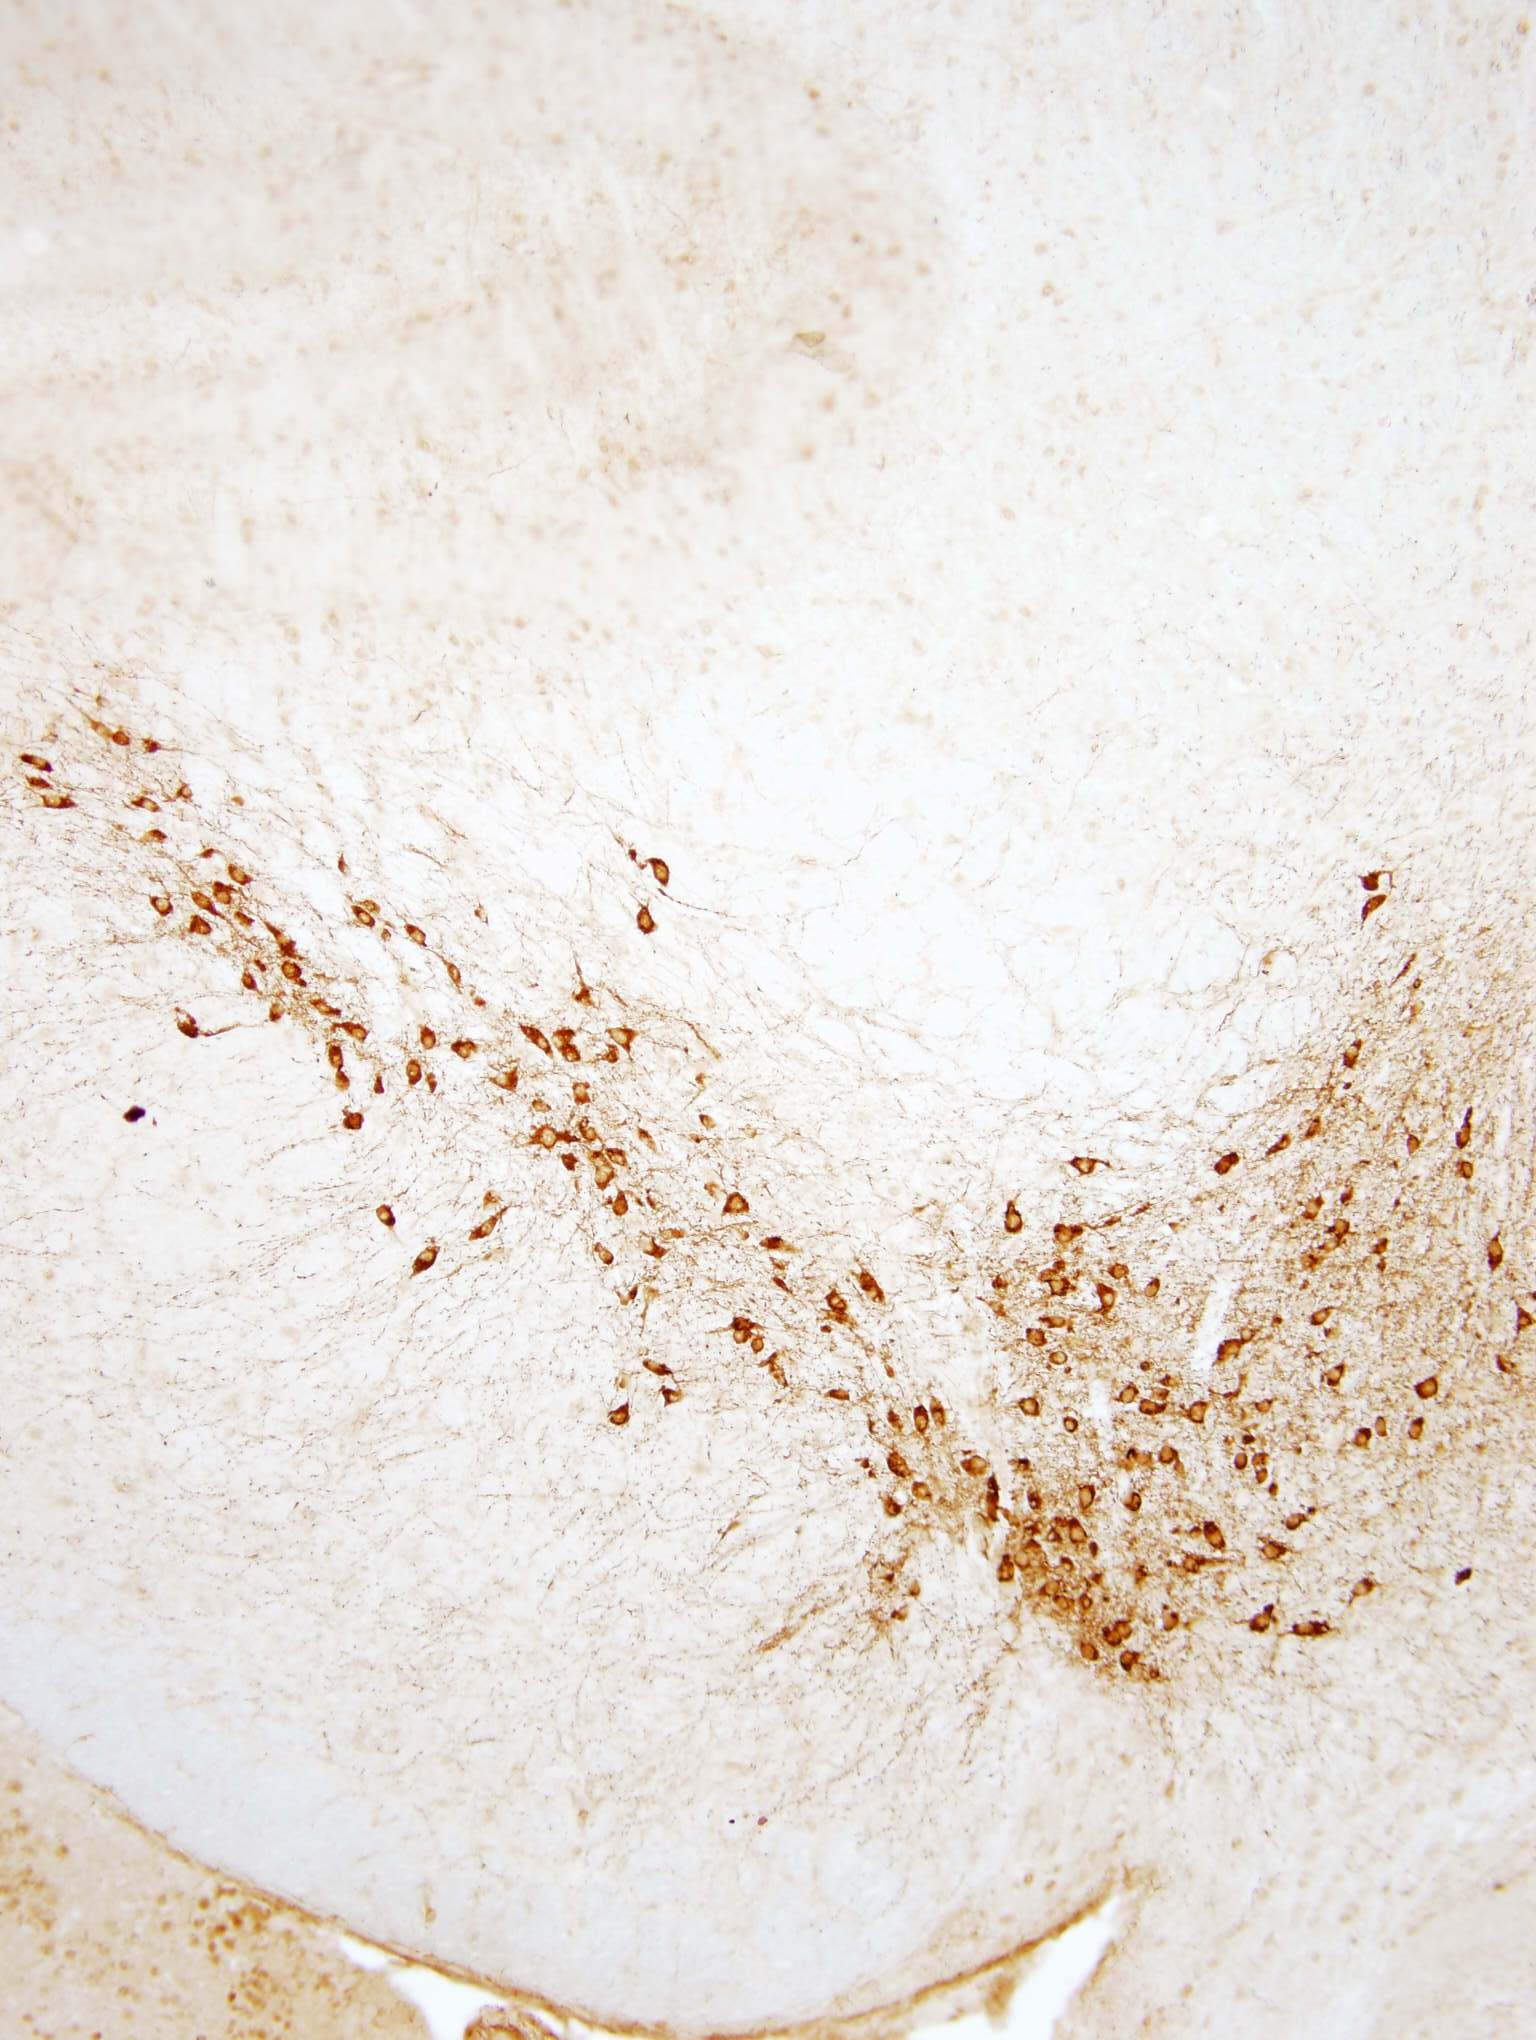neuron: (1066, 1147, 1104, 1184), (1091, 1284, 1128, 1321), (1133, 1397, 1170, 1434), (1137, 1663, 1175, 1700), (1276, 1501, 1313, 1538), (269, 919, 307, 956), (408, 1239, 445, 1276), (883, 1605, 920, 1642), (900, 1405, 937, 1442), (1013, 1390, 1050, 1426), (1016, 1316, 1054, 1351), (1042, 1338, 1079, 1374), (1070, 1509, 1105, 1547), (1105, 1374, 1142, 1409), (1136, 1272, 1171, 1309), (1208, 1148, 1244, 1185), (1212, 1334, 1249, 1369), (1242, 1605, 1279, 1640), (1246, 1385, 1281, 1422), (1255, 1530, 1291, 1567), (1304, 1111, 1341, 1147), (1320, 1356, 1355, 1393), (132, 795, 169, 831), (1346, 1577, 1383, 1613), (1355, 892, 1392, 927), (1480, 1234, 1515, 1271), (169, 772, 207, 808), (189, 876, 224, 913), (215, 872, 250, 910), (227, 906, 265, 942), (231, 855, 266, 892), (23, 740, 60, 776), (261, 1000, 298, 1035), (311, 990, 349, 1026), (323, 1034, 358, 1071), (328, 1068, 365, 1103), (337, 1108, 374, 1143), (344, 903, 381, 939), (408, 1022, 445, 1058), (419, 1072, 455, 1110), (445, 1034, 482, 1069), (474, 1177, 510, 1214), (487, 1063, 524, 1098), (523, 1084, 558, 1121), (524, 1121, 561, 1156), (550, 1018, 586, 1055), (557, 1040, 594, 1076), (566, 1077, 603, 1113), (603, 1400, 641, 1435), (607, 1274, 644, 1309), (628, 905, 665, 940), (649, 848, 684, 885), (653, 1385, 691, 1421), (720, 1189, 755, 1226), (763, 1226, 799, 1263), (855, 1272, 891, 1309), (879, 1447, 916, 1482), (910, 1476, 945, 1513), (976, 1293, 1012, 1330), (984, 1268, 1021, 1303), (98, 718, 134, 755), (995, 1200, 1033, 1235), (1050, 1406, 1086, 1442), (1052, 1211, 1087, 1247), (1070, 1479, 1105, 1514), (1102, 1255, 1137, 1290), (1149, 1374, 1184, 1409), (1184, 1398, 1220, 1434), (1205, 1514, 1241, 1550), (1231, 1318, 1267, 1353), (1263, 1129, 1299, 1164), (1291, 1609, 1326, 1645), (1333, 1040, 1368, 1076), (137, 826, 173, 861), (1400, 1124, 1436, 1159), (1417, 1372, 1452, 1408), (1449, 1114, 1484, 1150), (1454, 1155, 1489, 1190), (147, 890, 182, 926), (168, 1010, 203, 1045), (179, 914, 215, 950), (227, 966, 263, 1001), (276, 958, 311, 993), (342, 1013, 378, 1048), (355, 884, 390, 919), (369, 1198, 405, 1234), (394, 1055, 429, 1090), (399, 919, 434, 955), (40, 789, 76, 824), (440, 953, 476, 989), (470, 1213, 505, 1248), (520, 1026, 555, 1061), (565, 976, 600, 1011), (608, 1016, 644, 1051), (641, 1347, 676, 1382), (828, 1377, 863, 1413), (871, 1492, 907, 1527), (900, 1572, 936, 1608), (933, 1395, 968, 1430), (957, 1445, 992, 1480), (986, 1555, 1021, 1590), (1012, 1450, 1036, 1474), (1025, 1484, 1049, 1508), (1025, 1540, 1049, 1564), (1039, 1576, 1063, 1600), (1044, 1526, 1068, 1550), (1050, 1593, 1075, 1617), (1054, 1555, 1078, 1579), (1075, 1593, 1099, 1617), (1097, 1629, 1121, 1653), (1105, 1209, 1129, 1234), (1113, 1619, 1137, 1643), (1117, 1648, 1141, 1672), (1121, 1493, 1146, 1518), (1125, 1447, 1149, 1471), (1133, 1201, 1157, 1226), (1157, 1443, 1181, 1468), (1157, 1609, 1181, 1634), (1171, 1456, 1196, 1480), (1183, 1553, 1207, 1577), (1228, 1451, 1252, 1476), (1250, 1448, 1275, 1472), (1265, 1487, 1289, 1511), (1268, 1311, 1292, 1335), (1299, 1251, 1323, 1276), (1304, 1193, 1328, 1218), (1310, 1306, 1334, 1330), (1321, 1324, 1346, 1348), (1328, 1216, 1352, 1240), (1338, 1182, 1362, 1206), (1349, 1427, 1373, 1451), (1370, 1232, 1394, 1256), (1371, 1416, 1396, 1440), (1373, 1255, 1397, 1279), (1405, 1418, 1430, 1442), (1409, 997, 1433, 1021), (1460, 1024, 1484, 1048), (558, 1151, 582, 1176), (595, 1245, 620, 1269), (599, 1159, 623, 1184), (607, 1143, 631, 1168), (610, 1193, 634, 1218), (639, 1240, 663, 1264), (658, 1226, 682, 1250), (700, 1179, 724, 1203), (728, 1322, 752, 1347), (745, 1335, 770, 1359), (824, 1290, 849, 1314), (1012, 1548, 1034, 1572), (1133, 1559, 1155, 1584), (1170, 1219, 1192, 1243), (1254, 1471, 1278, 1493), (1318, 1234, 1342, 1256), (1494, 1355, 1518, 1377), (578, 1121, 600, 1145), (586, 1151, 608, 1176), (587, 1171, 611, 1193), (636, 1127, 658, 1151), (699, 1108, 721, 1132), (1078, 1642, 1100, 1664)
